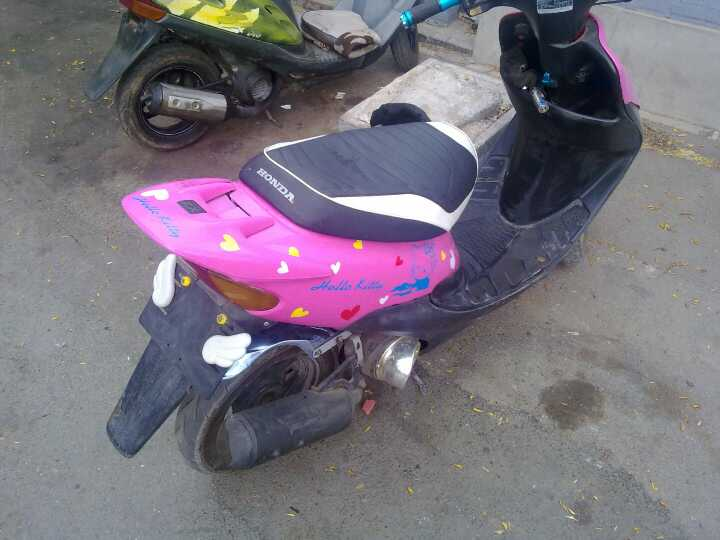电动车: (92, 1, 649, 476), (82, 1, 439, 159)
